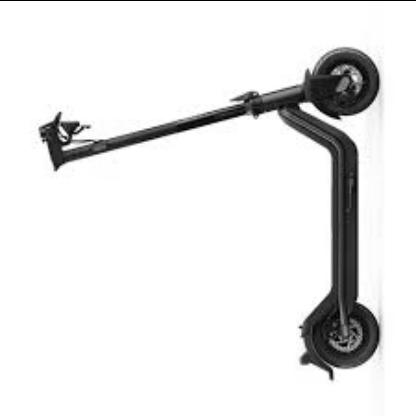bike: (41, 47, 384, 391)
